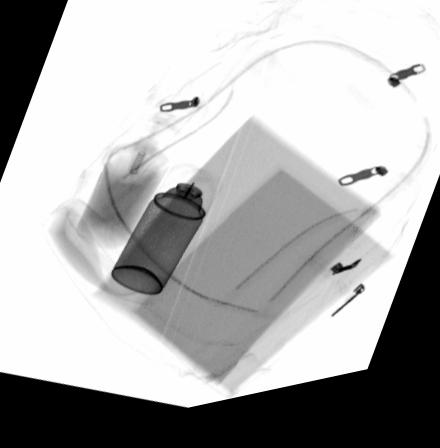Sprayer: (110, 171, 225, 303)
